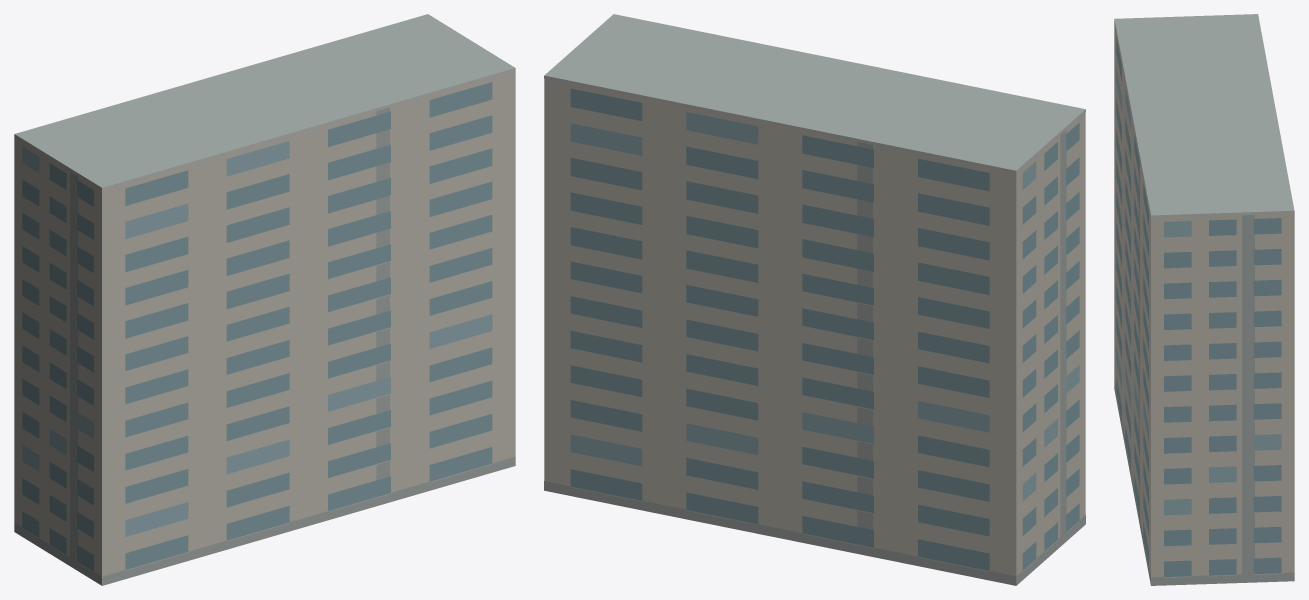
Rendered from residential-c8c960bb-a90a-4b26-9742-8c8dd1df7dfd.glb.
3 renders of one model, left to right at view 1: azimuth 30°, elevation 25°; view 2: azimuth 150°, elevation 25°; view 3: azimuth 270°, elevation 25°, orthographic. The views are drawn at different scales.
Visible parts, largest first — view 1: residential-c8c960bb-a90a-4b26-9742-8c8dd1df7dfd.tmp; view 2: residential-c8c960bb-a90a-4b26-9742-8c8dd1df7dfd.tmp; view 3: residential-c8c960bb-a90a-4b26-9742-8c8dd1df7dfd.tmp.
Part boxes in pixels (x1,y1,x2,y2): residential-c8c960bb-a90a-4b26-9742-8c8dd1df7dfd.tmp: (14, 14, 515, 585); residential-c8c960bb-a90a-4b26-9742-8c8dd1df7dfd.tmp: (544, 14, 1085, 585); residential-c8c960bb-a90a-4b26-9742-8c8dd1df7dfd.tmp: (1114, 14, 1294, 585).
Size of the model in its own units: 37.33 by 32 by 14.11.
